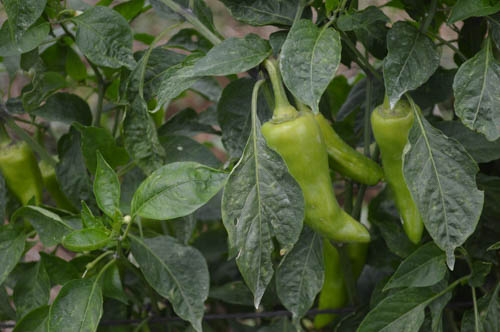ChiliPepper: (265, 113, 369, 243), (370, 105, 427, 243), (313, 231, 374, 326), (305, 106, 381, 182), (4, 141, 47, 219)
